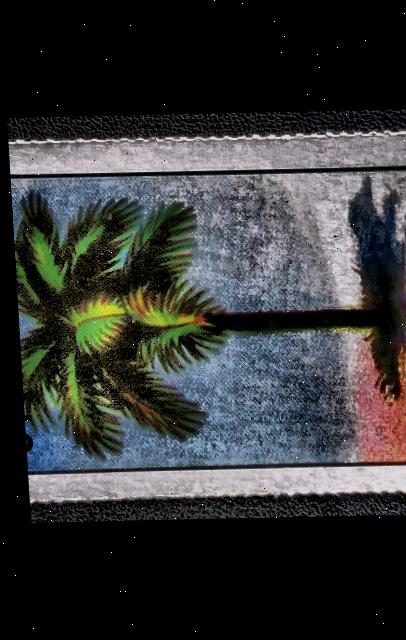La Palma: (7, 146, 406, 489)
